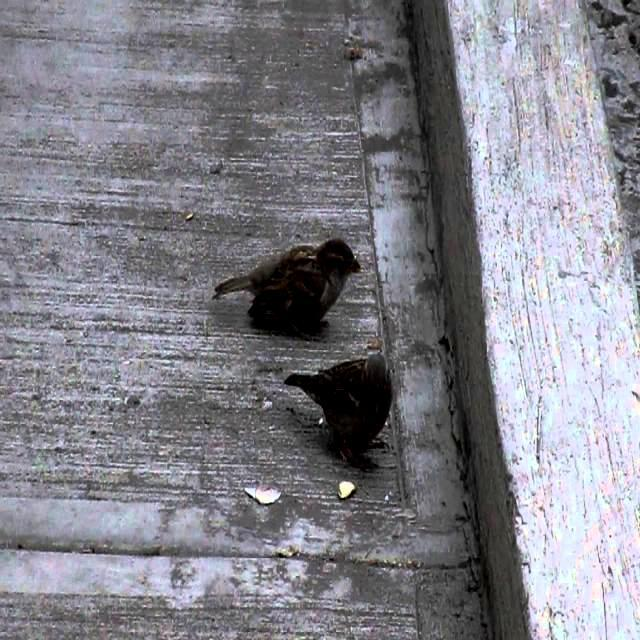bird: (222, 231, 374, 329), (285, 348, 398, 466)
